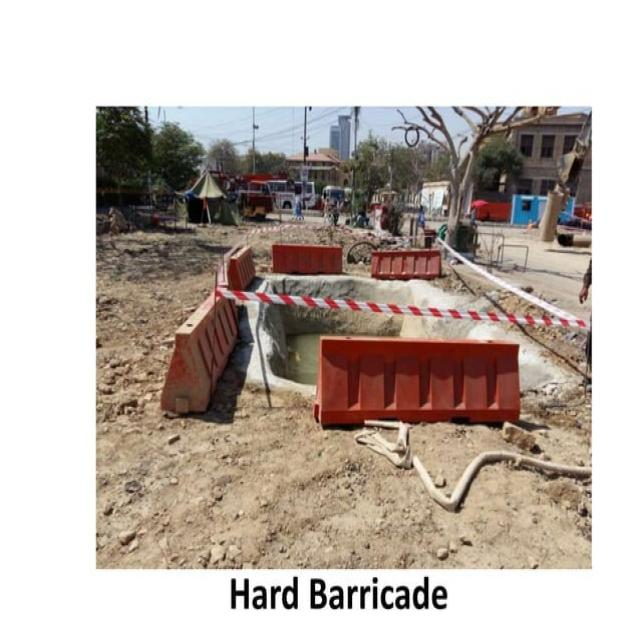cone: (312, 335, 521, 426)
